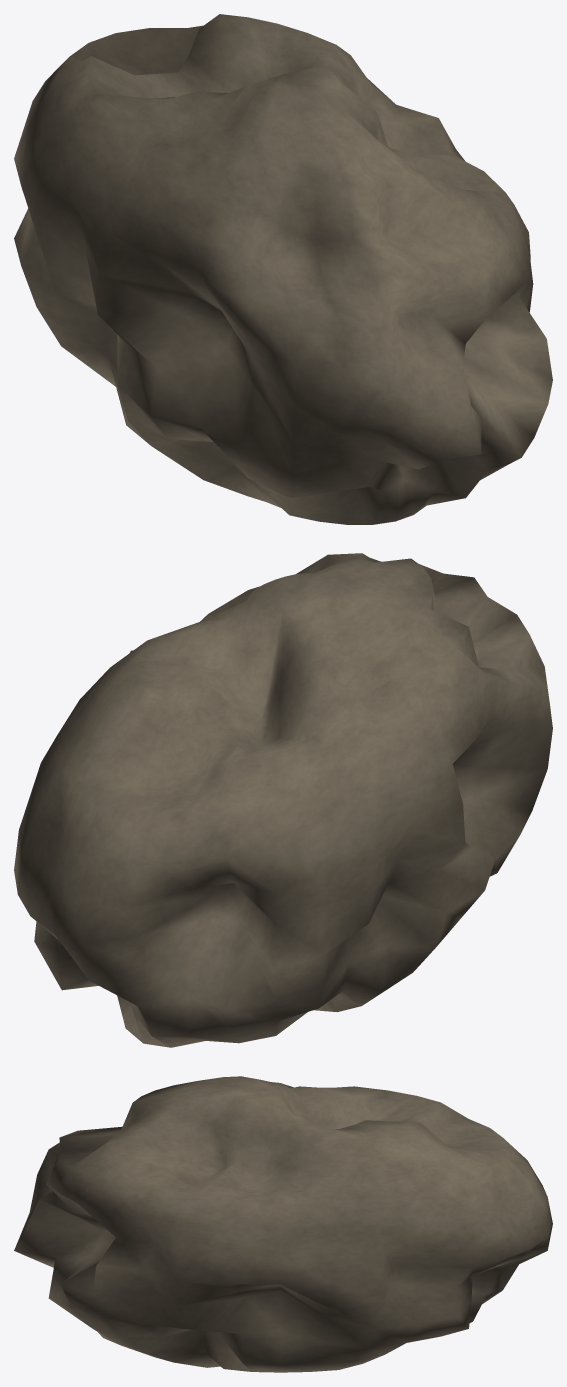
File: RockLarge.fbx
3 renders of one model, top to bottom at view 1: azimuth 30°, elevation 25°; view 2: azimuth 150°, elevation 25°; view 3: azimuth 270°, elevation 25°, orthographic. The views are drawn at different scales.
Parts seen in each view (by area): view 1: Sphere.003; view 2: Sphere.003; view 3: Sphere.003.
Boxes of the visible parts, x1,y1,x2,y2 form: Sphere.003: [14, 14, 552, 524]; Sphere.003: [14, 553, 552, 1047]; Sphere.003: [14, 1076, 552, 1372].
Bounding box in the file's own units: 208 × 216 × 390.
